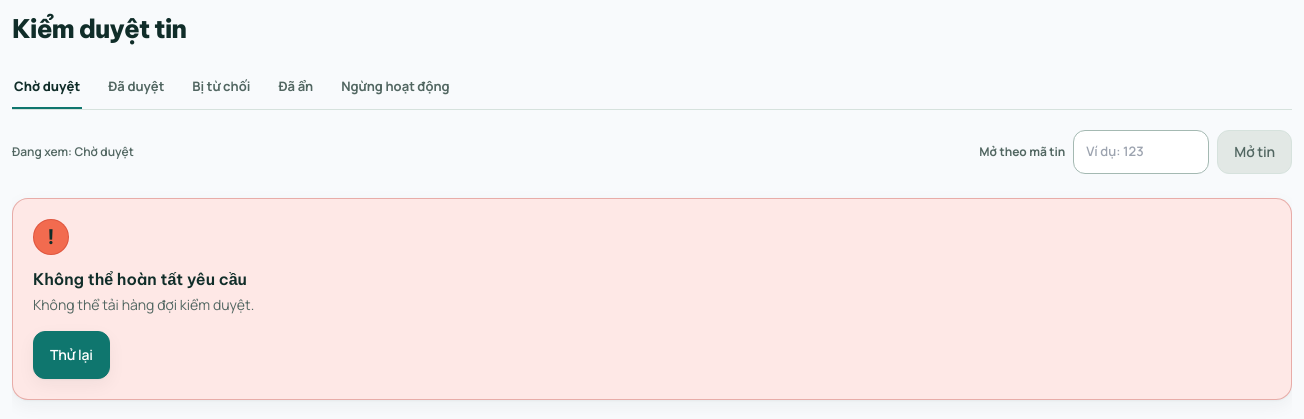
Test: AdminListingsPage › shows a retryable queue error when the collection request fails
This screenshot has width=1304, height=419.
Expected: the text "Không thể tải hàng đợi kiểm duyệt." is shown, [33,295,254,314]
Click the button "Thử lại" at (71,355), box [33,331,110,379]
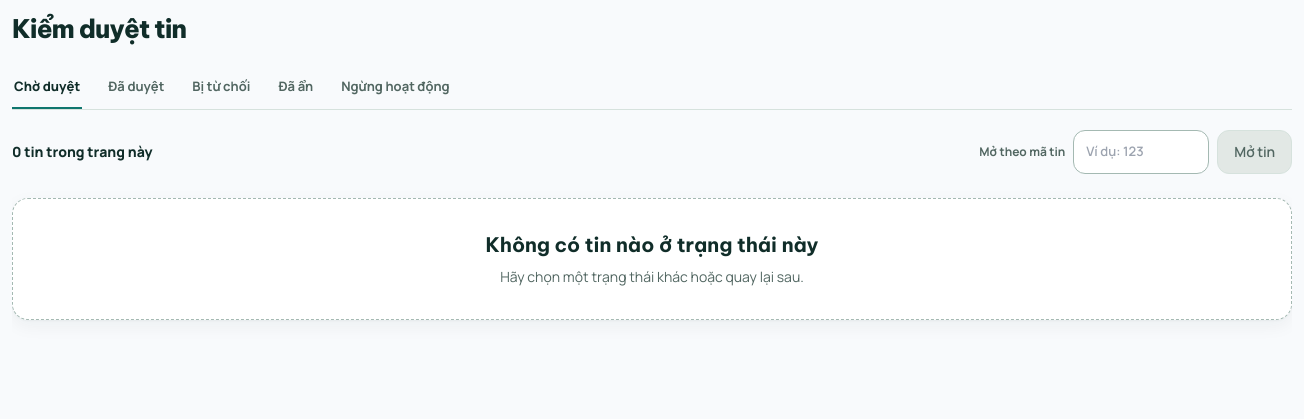
Expected: the heading "Không có tin nào ở trạng thái này" is shown, [486,231,818,259]
